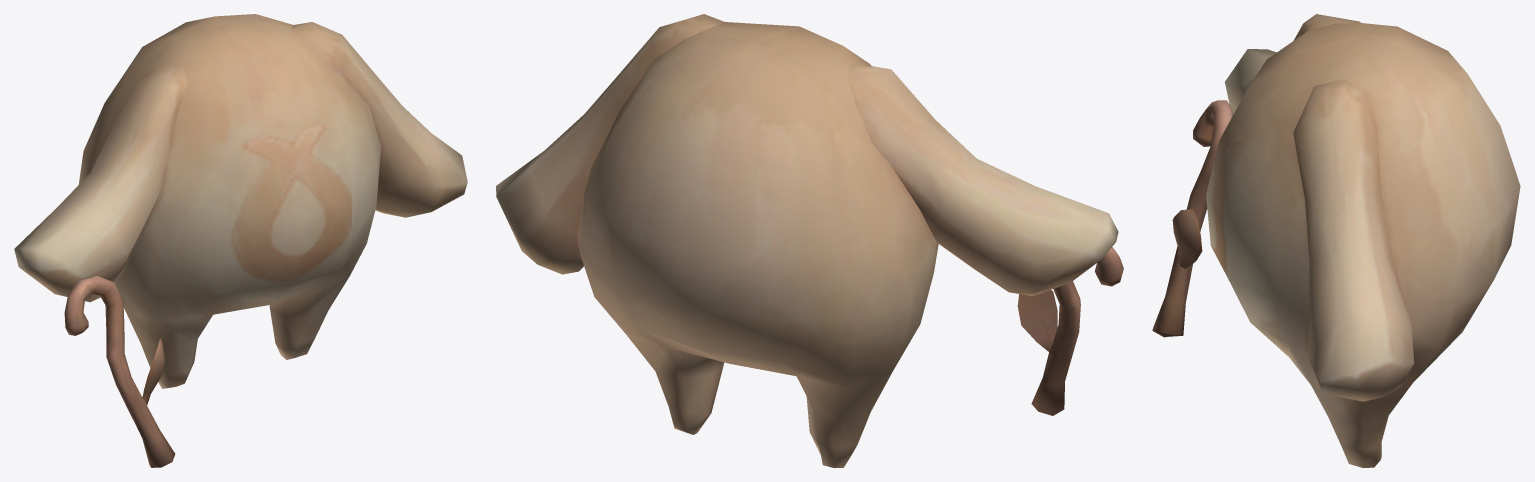
Rendered from Homeworld_Ani_Exterior_Common_Decoration_Prop_WoodAranaraBodyC1_04_Vo.fbx.
The picture shows the model from 3 angles, left to right: view 1: azimuth 30°, elevation 25°; view 2: azimuth 150°, elevation 25°; view 3: azimuth 270°, elevation 25°; orthographic projection. The views are drawn at different scales.
Parts seen in each view (by area): view 1: Homeworld_Ani_Exterior_Common_Decoration_Prop_WoodAranaraBod; view 2: Homeworld_Ani_Exterior_Common_Decoration_Prop_WoodAranaraBod; view 3: Homeworld_Ani_Exterior_Common_Decoration_Prop_WoodAranaraBod.
Boxes of the visible parts, box(x1,y1,x2,y2) form: Homeworld_Ani_Exterior_Common_Decoration_Prop_WoodAranaraBod: box(14, 14, 467, 467); Homeworld_Ani_Exterior_Common_Decoration_Prop_WoodAranaraBod: box(496, 14, 1123, 467); Homeworld_Ani_Exterior_Common_Decoration_Prop_WoodAranaraBod: box(1152, 14, 1520, 467).
Size of the model in its own units: 0.6887 by 0.4766 by 0.4033.
